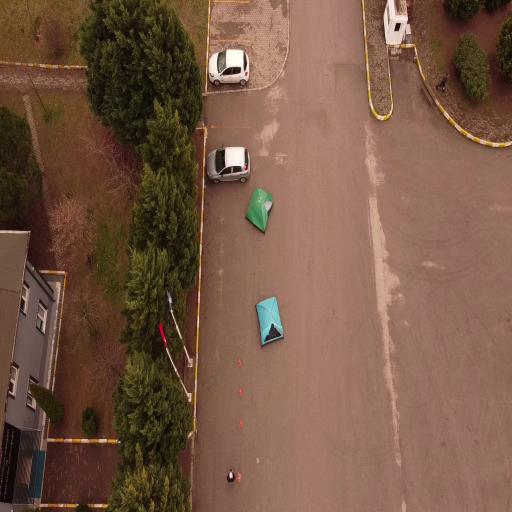tent: (256, 293, 285, 348), (245, 185, 275, 235)
